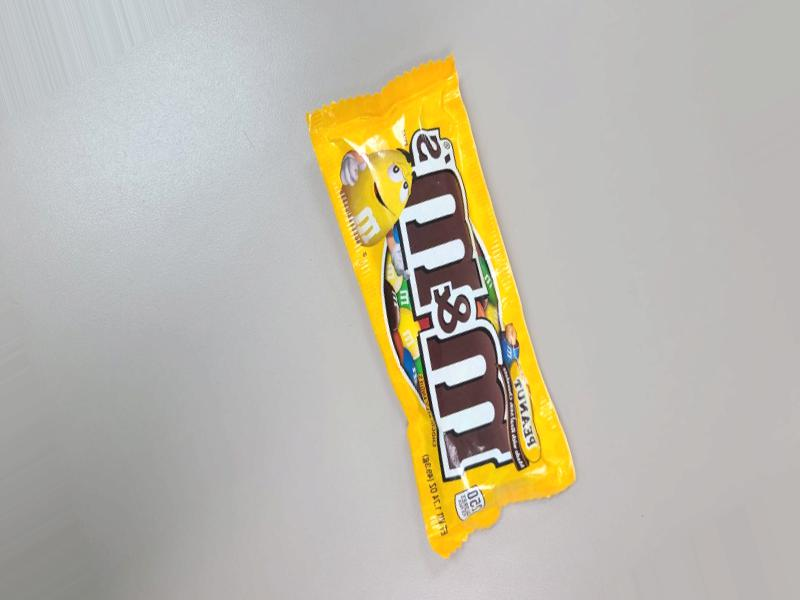m&m: (354, 143, 568, 518)
